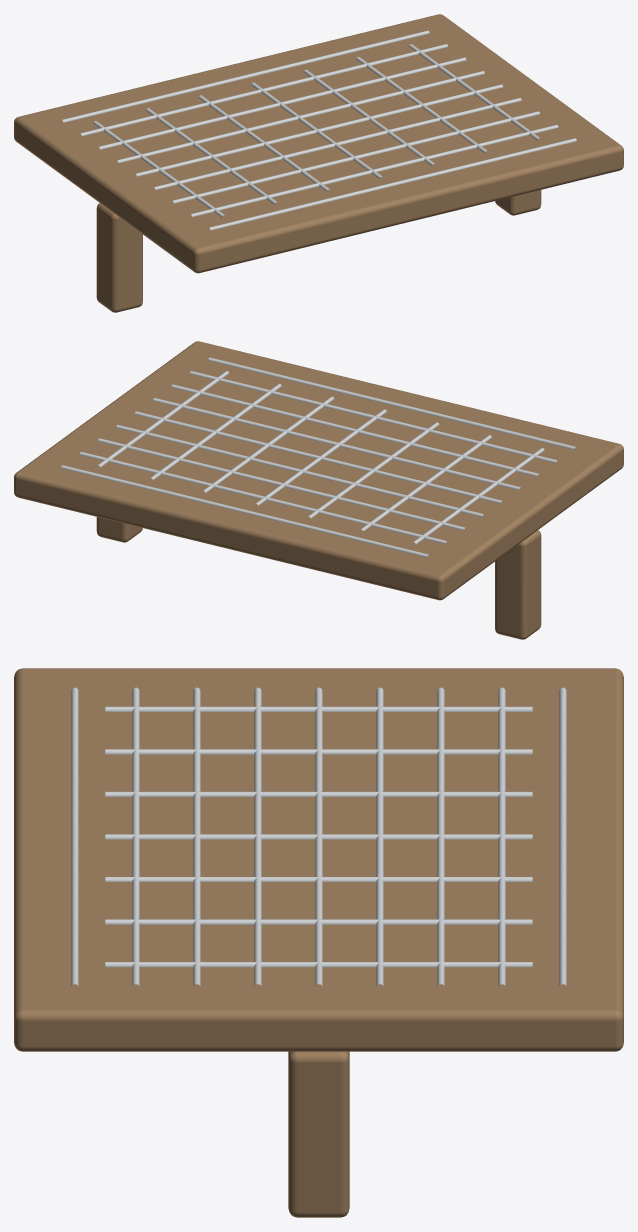
The model's file is marquetry-and-veneer-inlay-workshop-shaded-veneer-cool-6852fd18__39115.glb.
The picture shows the model from 3 angles, top to bottom: view 1: azimuth 30°, elevation 25°; view 2: azimuth 150°, elevation 25°; view 3: azimuth 270°, elevation 25°; orthographic projection. The views are drawn at different scales.
Visible parts, largest first — view 1: shaded-veneer-cooling-mesh; view 2: shaded-veneer-cooling-mesh; view 3: shaded-veneer-cooling-mesh.
Part boxes in pixels (x1,y1,x2,y2): shaded-veneer-cooling-mesh: [14, 14, 623, 312]; shaded-veneer-cooling-mesh: [14, 341, 623, 639]; shaded-veneer-cooling-mesh: [14, 668, 623, 1217].
Size of the model in its own units: 0.54 by 0.1525 by 0.4.
